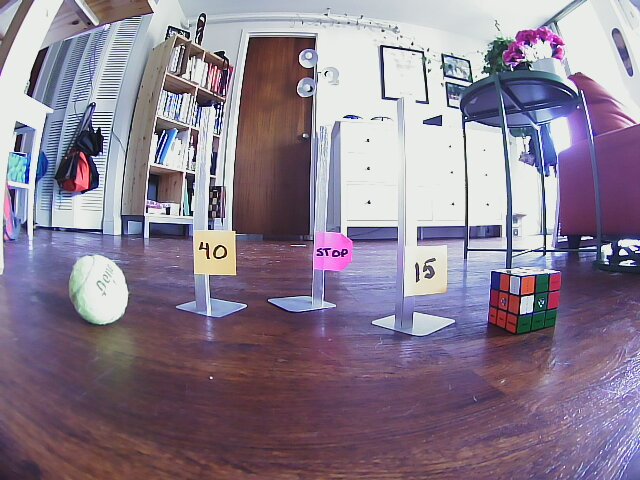15: (398, 244, 451, 298)
40: (187, 226, 241, 280)
ball: (64, 251, 133, 328)
cube: (484, 267, 565, 336)
stop: (310, 229, 356, 275)
